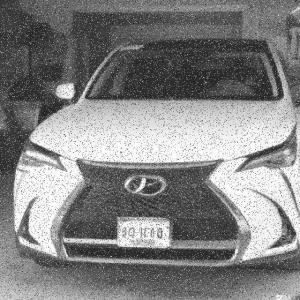Plate: (117, 218, 172, 249)
